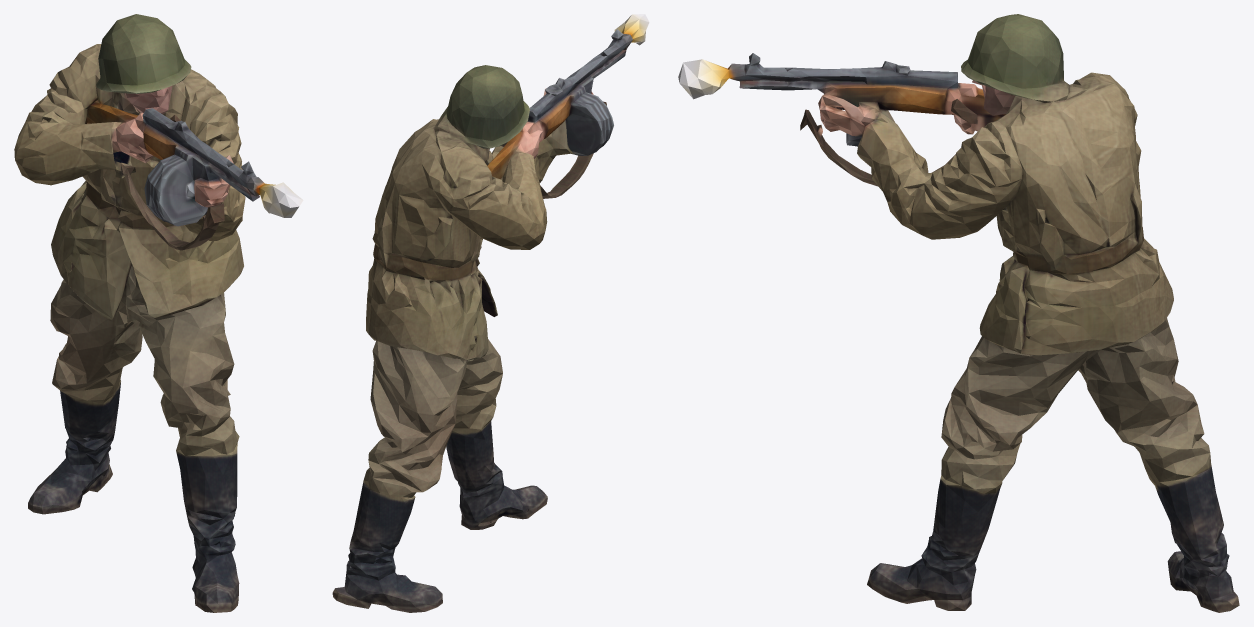
File: ally_su_stand.obj
3 renders of one model, left to right at view 1: azimuth 30°, elevation 25°; view 2: azimuth 150°, elevation 25°; view 3: azimuth 270°, elevation 25°, orthographic. The views are drawn at different scales.
Visible parts, largest first — view 1: ally_su_stand; view 2: ally_su_stand; view 3: ally_su_stand.
Boxes of the visible parts, bbox=[...] form: ally_su_stand: bbox=[14, 14, 303, 612]; ally_su_stand: bbox=[332, 14, 649, 612]; ally_su_stand: bbox=[678, 14, 1239, 612].
Size of the model in its own units: 0.6786 by 1.8 by 1.62.
1 material, 1 textured.
